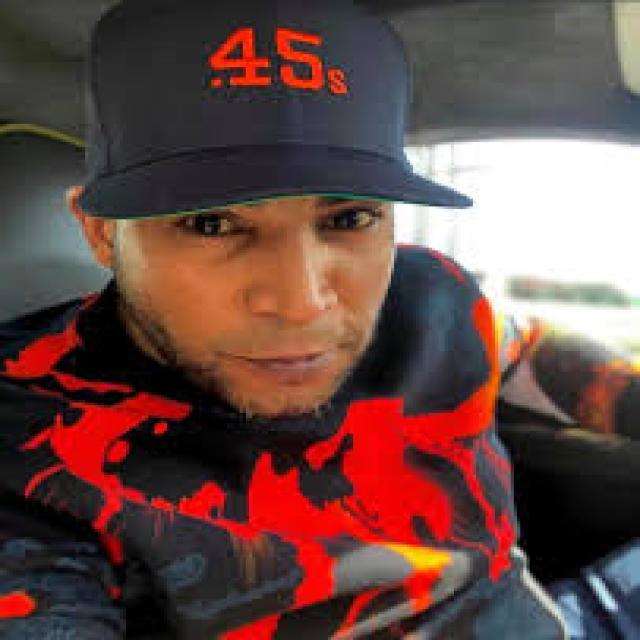cap: (28, 0, 480, 294)
